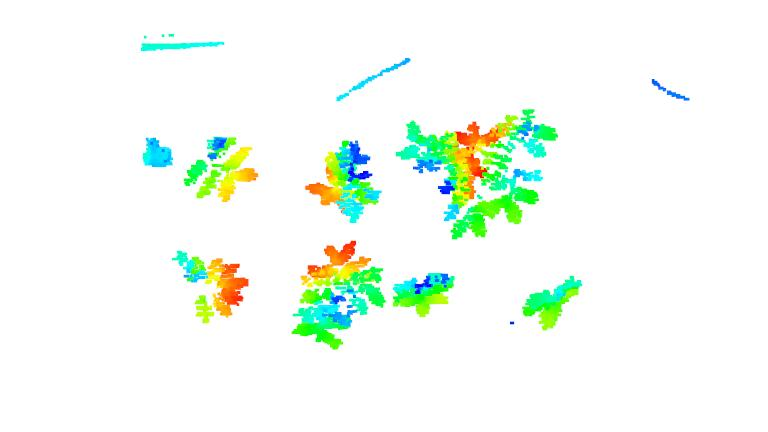chickpea: (450, 98, 563, 244), (294, 237, 390, 351), (406, 116, 483, 216), (170, 241, 252, 328), (307, 137, 389, 222), (184, 135, 264, 204), (392, 266, 463, 323), (524, 274, 586, 332)
